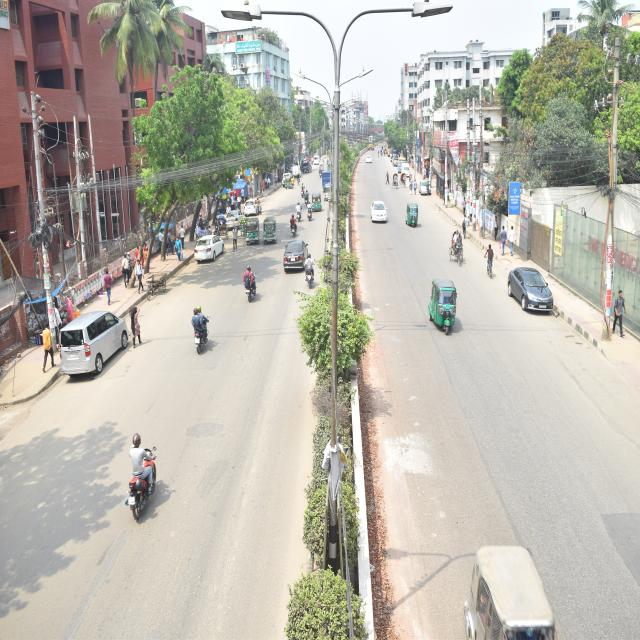car: (54, 306, 130, 379), (506, 263, 560, 317), (193, 232, 228, 268), (283, 240, 306, 275), (368, 198, 390, 228), (221, 206, 247, 231), (245, 192, 262, 218)
motorbike: (122, 452, 162, 531), (190, 318, 216, 357), (242, 268, 258, 303), (304, 259, 316, 292)
